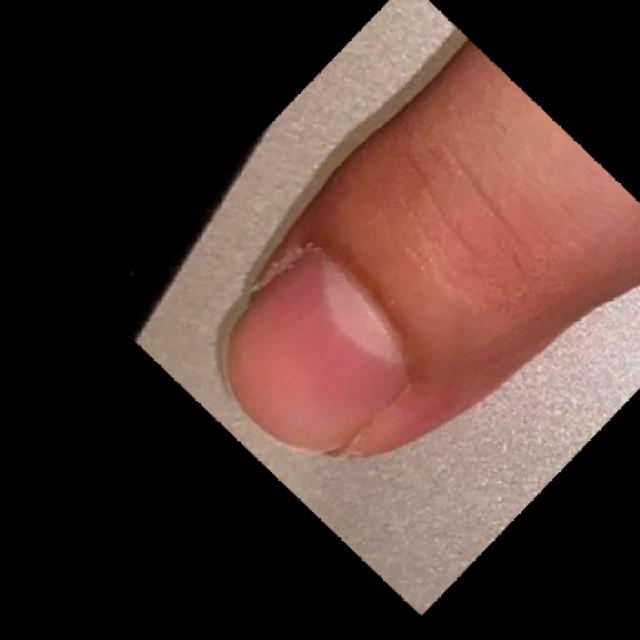Nail: (226, 252, 407, 449)
